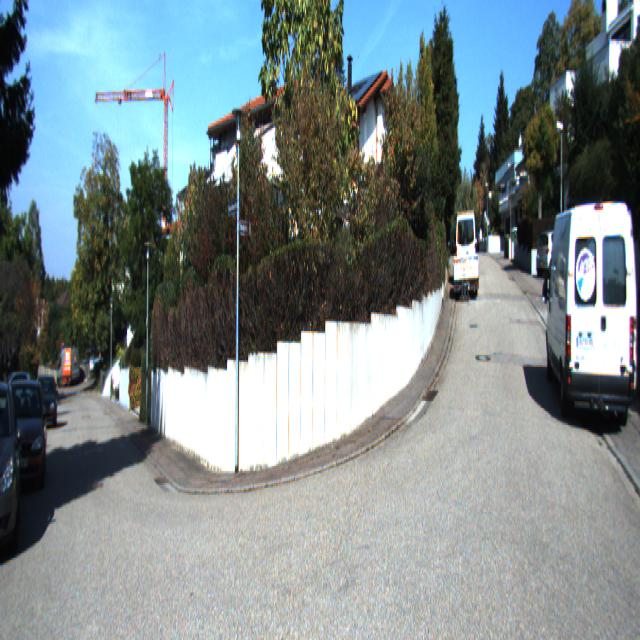Car: (543, 181, 640, 427), (0, 372, 49, 509), (0, 362, 21, 560), (456, 211, 476, 289), (36, 372, 58, 434), (453, 255, 481, 296)
